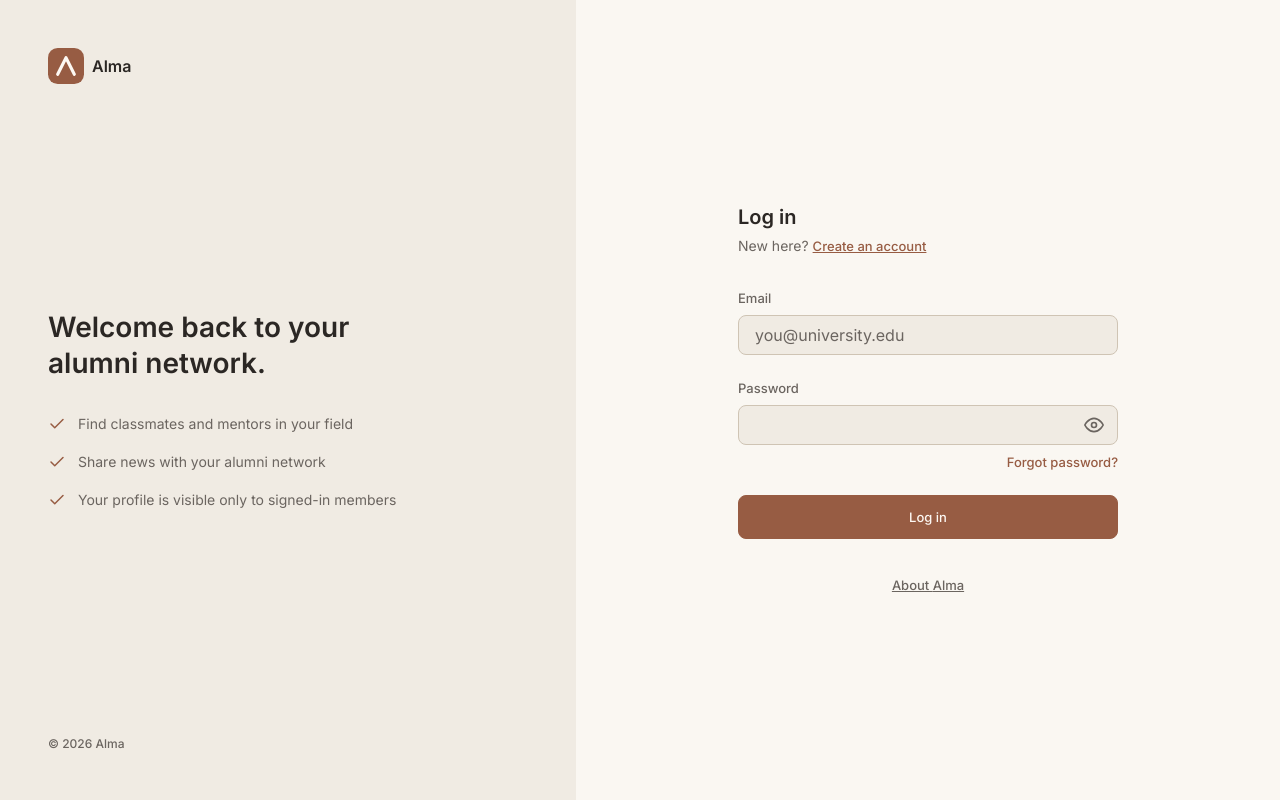
it: LoginPage › has a show/hide button on the password field and the forgot-password help
The width and height of the screenshot is (1280, 800).
Click the button named "Show password": (1094, 425) [1074,405,1114,445]
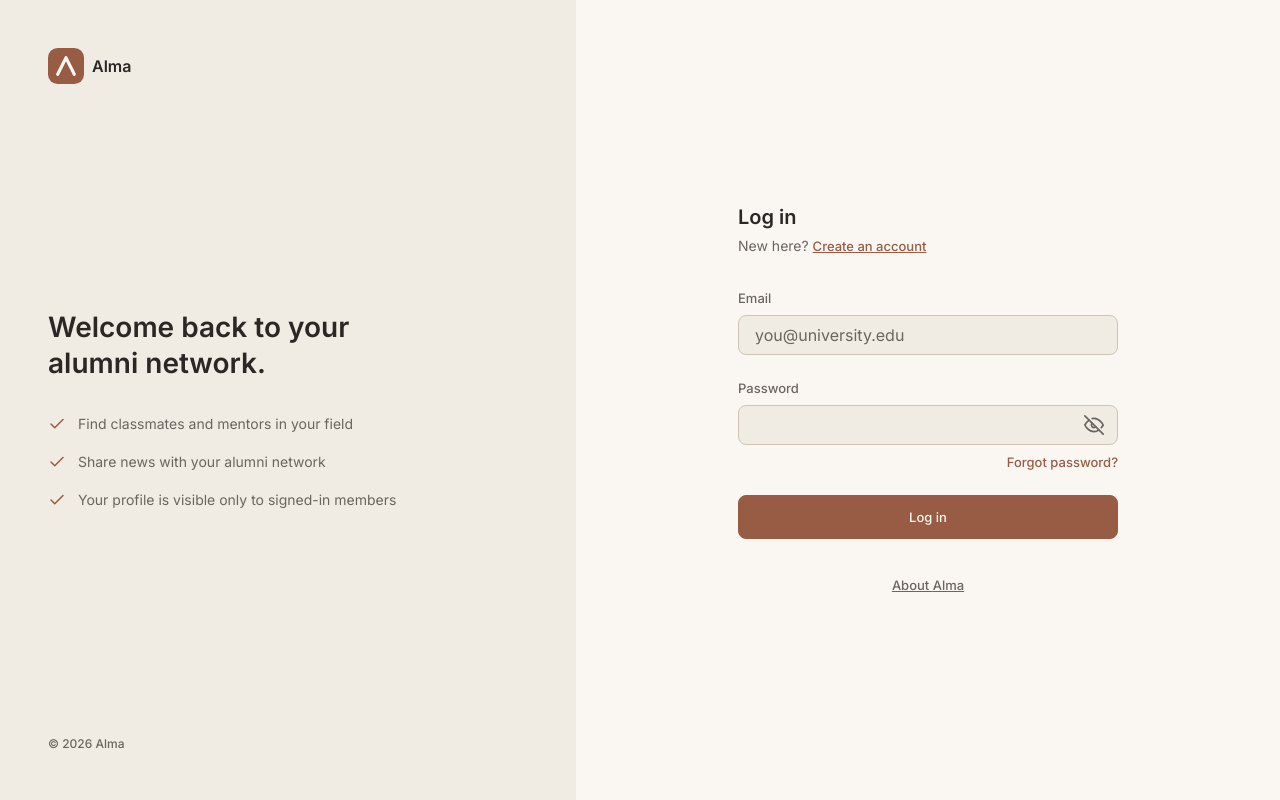
Click the button named "Hide password": (1094, 425) [1074,405,1114,445]
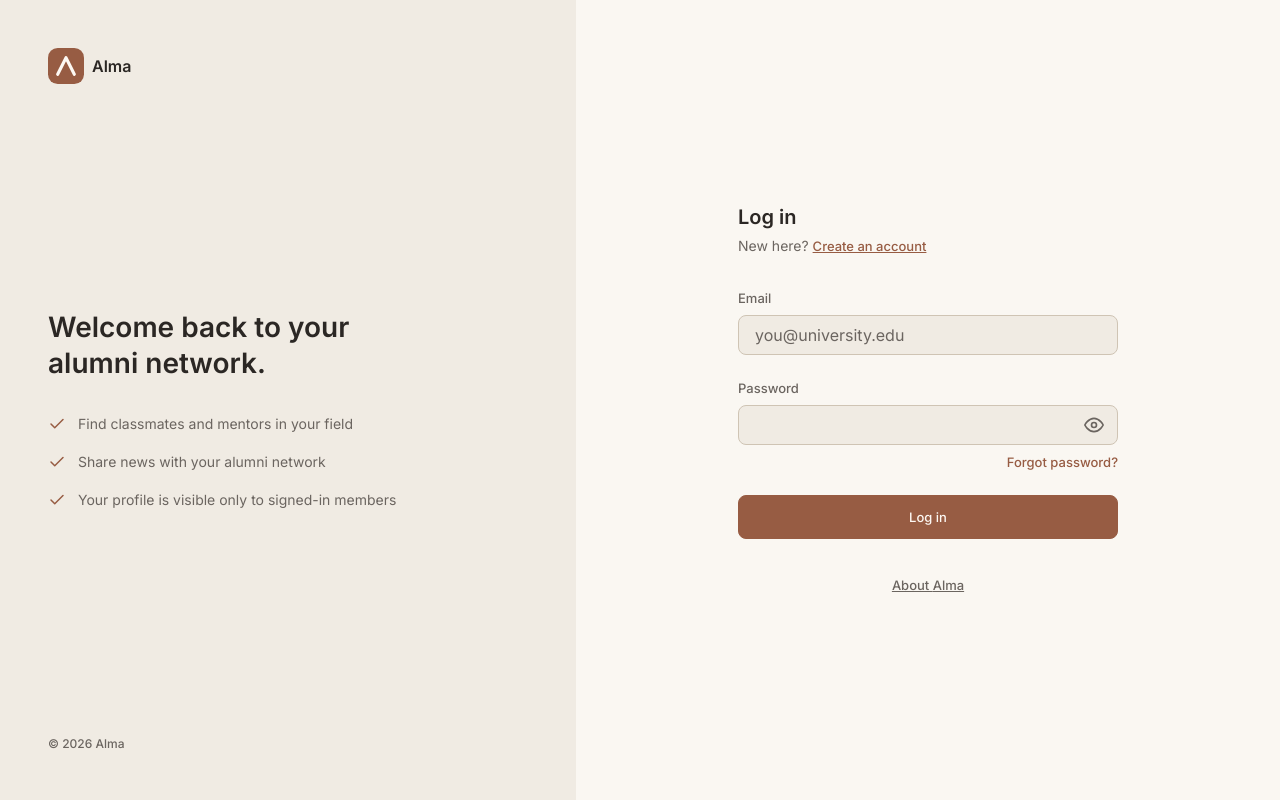
Click the button "Forgot password?": (1062, 462) [1007,453,1118,471]
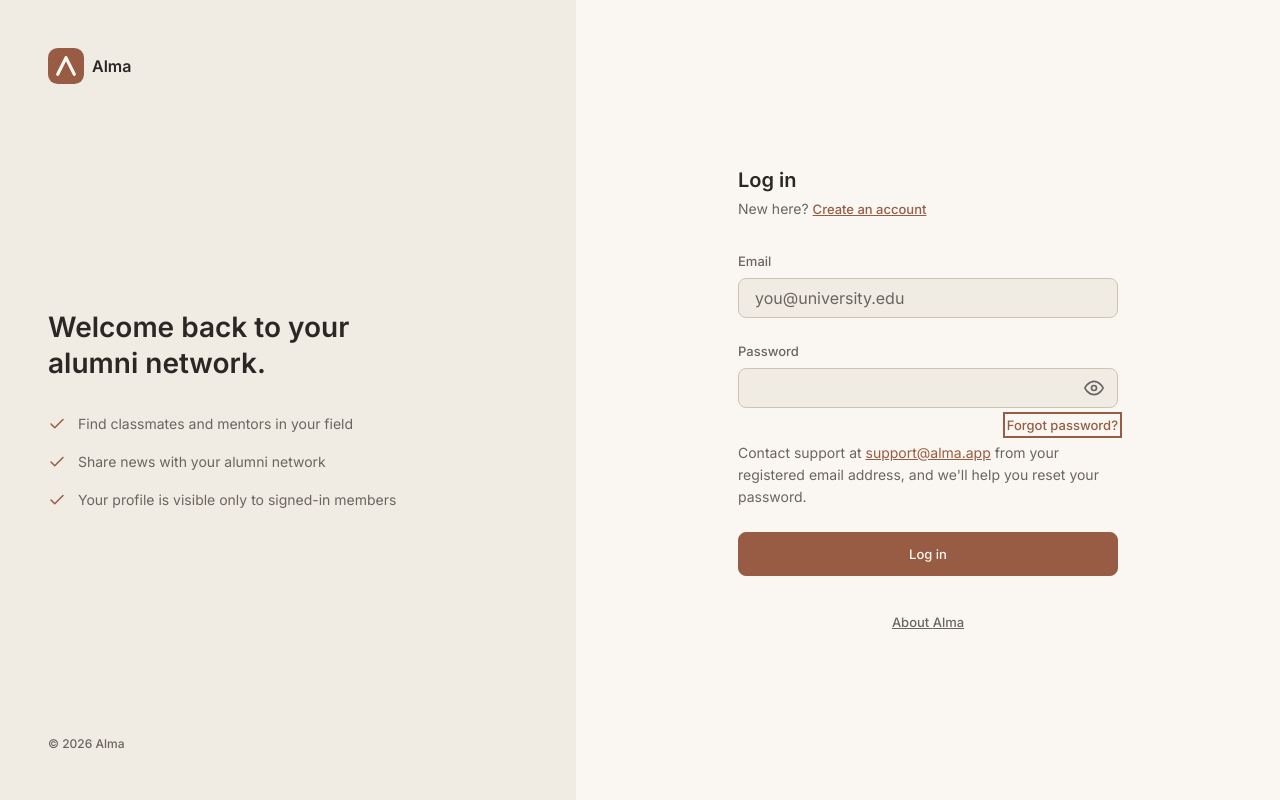
Result: the button "Forgot password?" is expanded at [1007,416,1118,434]
Result: the link "support@alma.app" is shown at [866,444,991,461]
